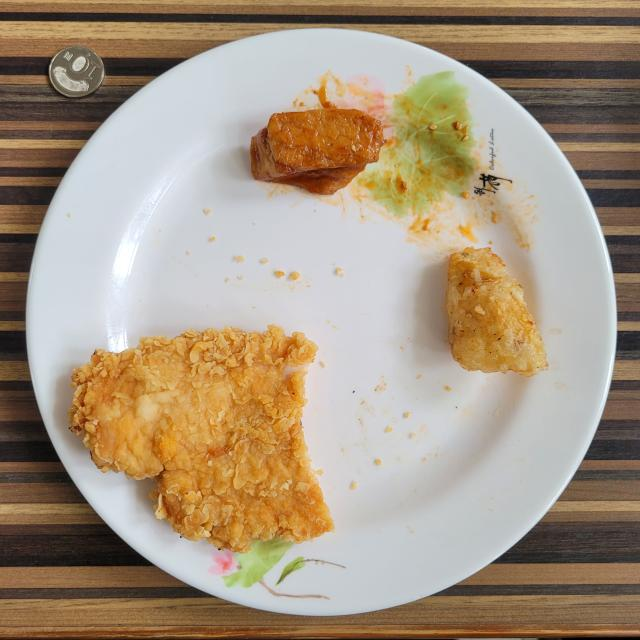coin: (49, 46, 105, 98)
creamy tofu: (250, 109, 386, 195)
fried chicken cutlet: (69, 325, 334, 552)
fried potato: (446, 248, 548, 376)
